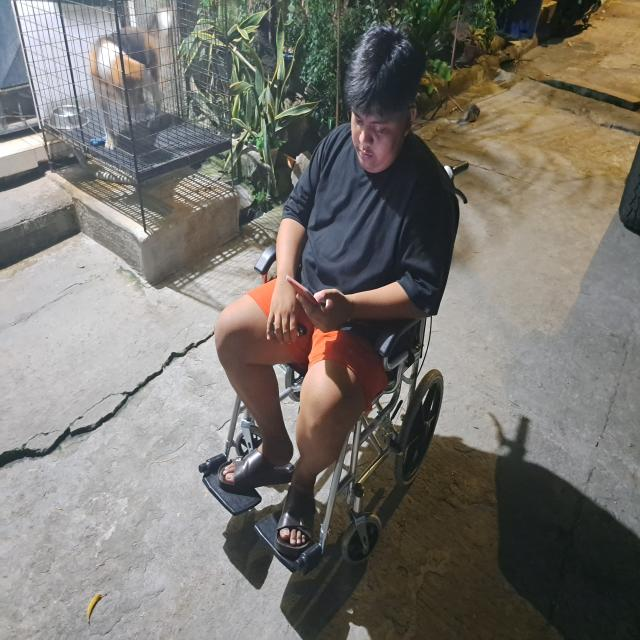wheelchairs: (195, 228, 461, 581)
